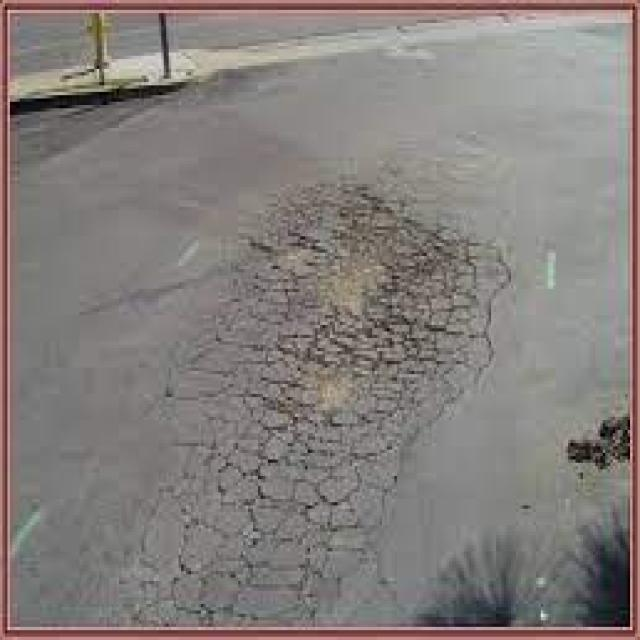Drain Hole: (216, 139, 568, 560)
